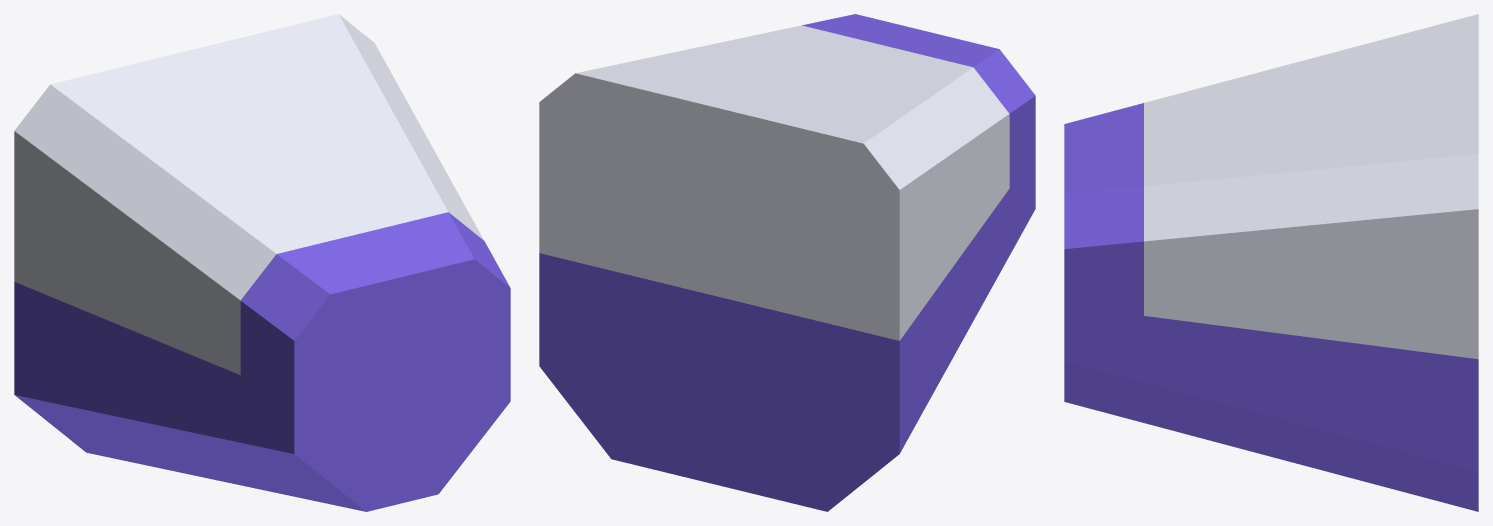
Rendered from SnakeHeadProto.fbx.
3 views of the same model, side by side, from view 1: azimuth 30°, elevation 25°; view 2: azimuth 150°, elevation 25°; view 3: azimuth 270°, elevation 25° (orthographic).
Visible parts, largest first — view 1: hull_frontStub%; view 2: hull_frontStub%; view 3: hull_frontStub%.
Part boxes in pixels (x1,y1,x2,y2): hull_frontStub%: (14, 14, 510, 511); hull_frontStub%: (539, 14, 1035, 511); hull_frontStub%: (1064, 14, 1478, 511).
Size of the model in its own units: 10 by 10 by 10.
